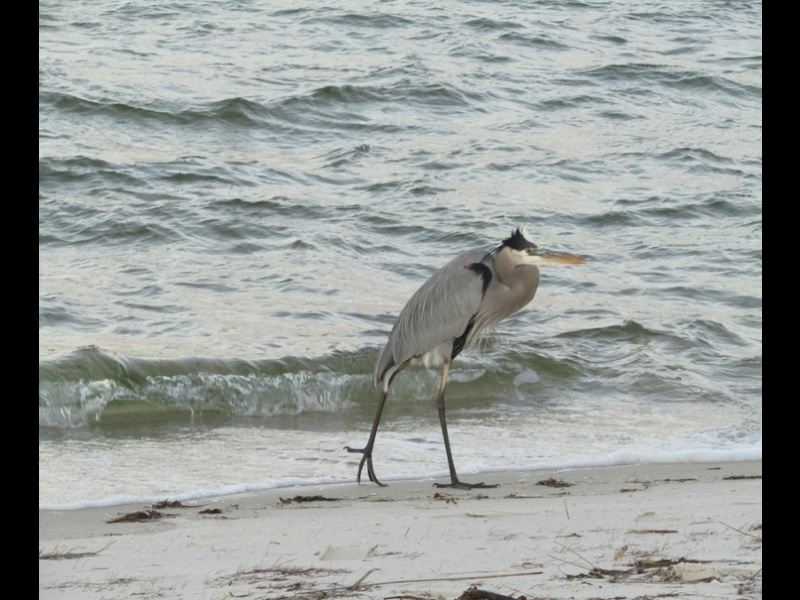heron: (343, 223, 587, 491)
